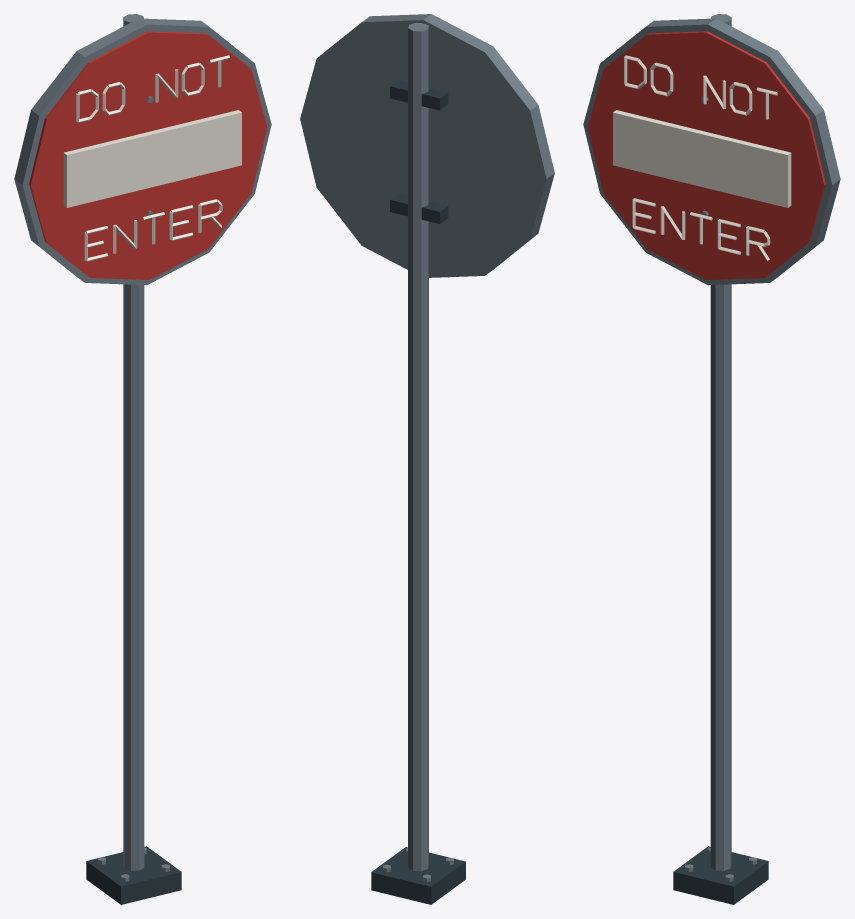
The model's file is b02_do_not_enter.glb.
The picture shows the model from 3 angles, left to right: view 1: azimuth 30°, elevation 25°; view 2: azimuth 150°, elevation 25°; view 3: azimuth 330°, elevation 25°; orthographic projection.
Parts seen in each view (by area): view 1: b02_do_not_enter; view 2: b02_do_not_enter; view 3: b02_do_not_enter.
Part boxes in pixels (x1,y1,x2,y2): b02_do_not_enter: (14,14,271,904); b02_do_not_enter: (300,14,554,904); b02_do_not_enter: (583,14,840,904).
Bounding box in the file's own units: 0.74 × 2.47 × 0.196.
